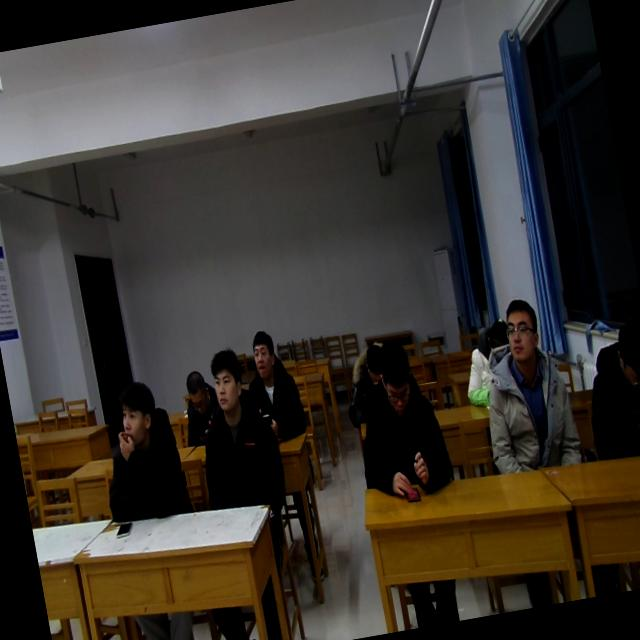bow: (453, 312, 526, 410), (334, 336, 398, 429)
down: (372, 338, 419, 419), (603, 308, 640, 394), (179, 364, 212, 418), (476, 304, 509, 349), (356, 336, 384, 384)
lookup: (494, 287, 546, 373), (109, 371, 162, 444), (201, 342, 249, 414), (245, 326, 282, 382)
sit: (466, 290, 588, 480), (340, 332, 459, 506), (180, 341, 291, 516), (87, 372, 197, 526), (570, 306, 640, 467), (240, 325, 310, 446), (174, 364, 227, 451)
